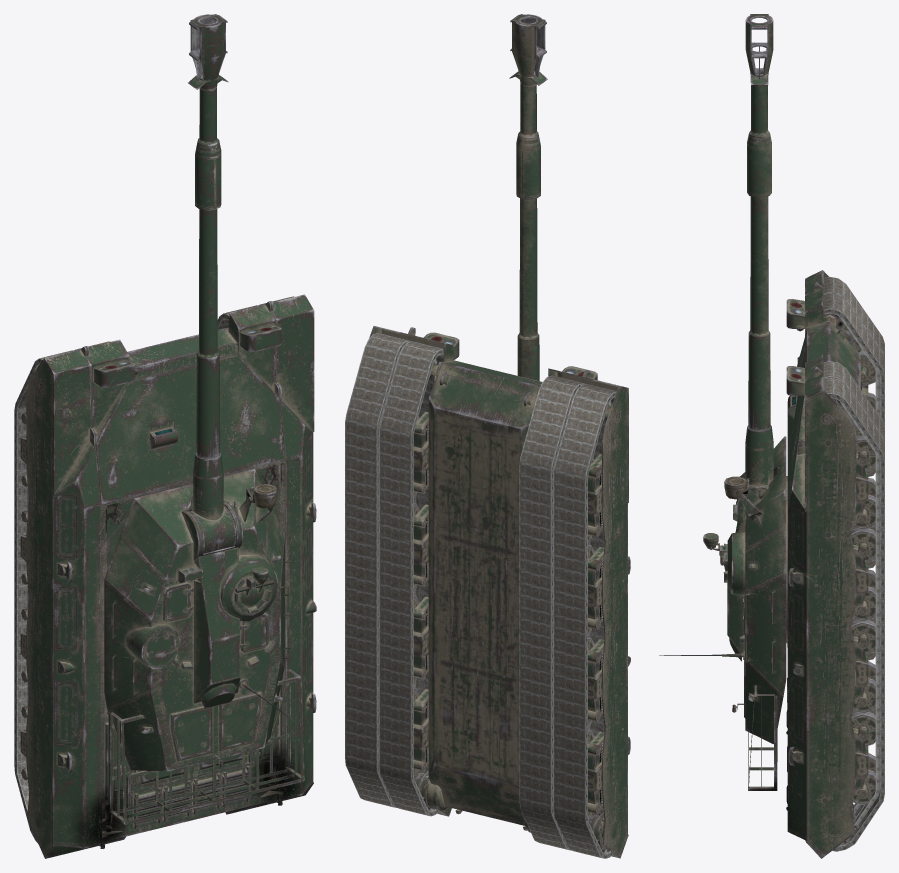
3 renders of one model, left to right at view 1: azimuth 30°, elevation 25°; view 2: azimuth 150°, elevation 25°; view 3: azimuth 270°, elevation 25°, orthographic. The views are drawn at different scales.
Parts seen in each view (by area): view 1: hull, turret_01, turret_01_nc_skin2, gun_01, hull_nc, chassis_track_L, hull_nc_skin, gun_01_mask, turret_01_nc_skin; view 2: hull, chassis_track_R, chassis_track_L, hull_nc_skin, gun_01, hull_nc; view 3: hull, turret_01, gun_01, chassis_track_R, hull_nc, chassis_track_L, hull_nc_skin, turret_01_nc_skin2, gun_01_mask, chassis_wheel_R_04, chassis_wheel_R_06, chassis_wheel_R_08 (+6 smaller).
Part boxes in pixels (x1=…): hull: x1=26, y1=294, x2=314, y2=858; turret_01: x1=104, y1=469, x2=284, y2=771; turret_01_nc_skin2: x1=108, y1=483, x2=304, y2=824; gun_01: x1=188, y1=14, x2=228, y2=458; hull_nc: x1=20, y1=302, x2=316, y2=848; chassis_track_L: x1=14, y1=341, x2=109, y2=843; hull_nc_skin: x1=21, y1=301, x2=282, y2=848; gun_01_mask: x1=190, y1=452, x2=236, y2=552; turret_01_nc_skin: x1=143, y1=567, x2=280, y2=768; hull: x1=369, y1=326, x2=628, y2=858; chassis_track_R: x1=345, y1=333, x2=443, y2=816; chassis_track_L: x1=519, y1=375, x2=616, y2=858; hull_nc_skin: x1=380, y1=327, x2=610, y2=838; gun_01: x1=509, y1=14, x2=547, y2=380; hull_nc: x1=381, y1=327, x2=630, y2=836; hull: x1=787, y1=270, x2=860, y2=858; turret_01: x1=712, y1=436, x2=787, y2=743; gun_01: x1=745, y1=14, x2=773, y2=430; chassis_track_R: x1=823, y1=361, x2=884, y2=851; hull_nc: x1=786, y1=283, x2=868, y2=810; chassis_track_L: x1=823, y1=277, x2=884, y2=427; hull_nc_skin: x1=786, y1=282, x2=868, y2=809; turret_01_nc_skin2: x1=659, y1=478, x2=777, y2=790; gun_01_mask: x1=737, y1=425, x2=773, y2=499; chassis_wheel_R_04: x1=851, y1=525, x2=875, y2=562; chassis_wheel_R_06: x1=851, y1=617, x2=875, y2=654; chassis_wheel_R_08: x1=851, y1=708, x2=875, y2=746.
Size of the model in its own units: 4.4 by 13.42 by 3.52.
2 materials, 2 textured.
